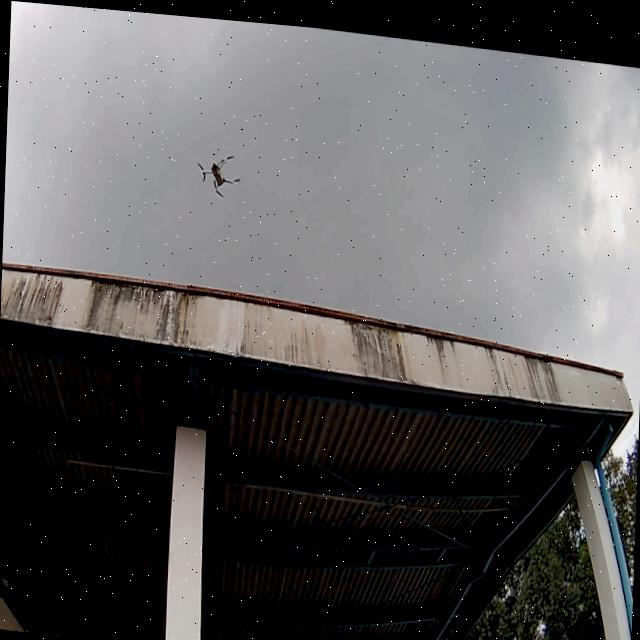drone: (195, 146, 241, 196)
